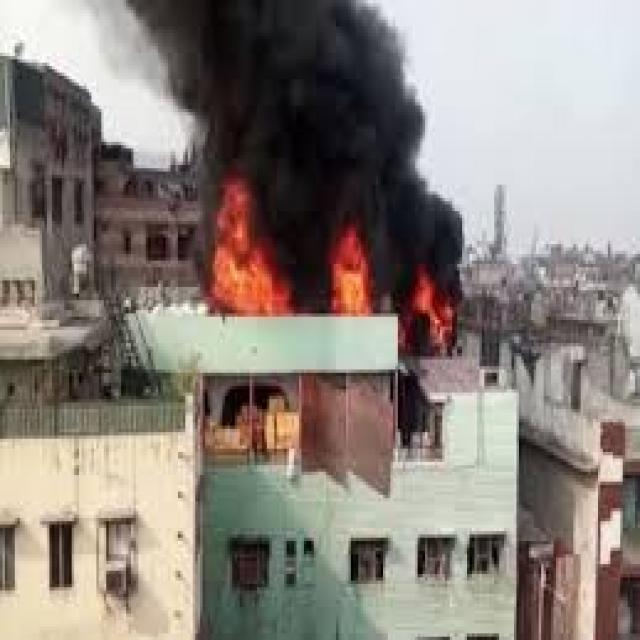fire: (208, 178, 286, 317), (326, 228, 371, 314), (415, 267, 452, 353)
smoke: (91, 3, 442, 178), (286, 175, 469, 264)
